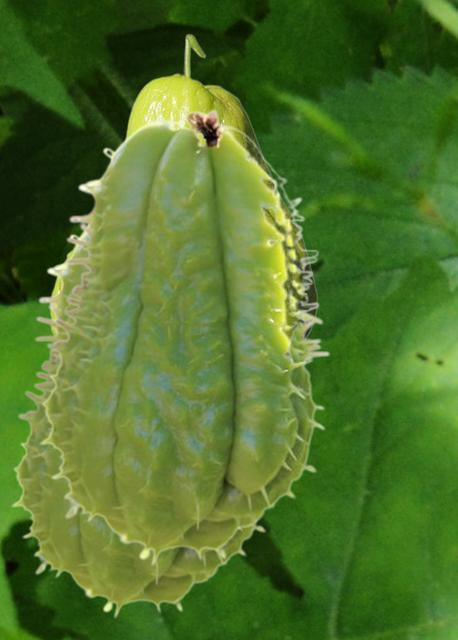sayote: (38, 108, 329, 566), (10, 231, 267, 618), (49, 33, 317, 336)
